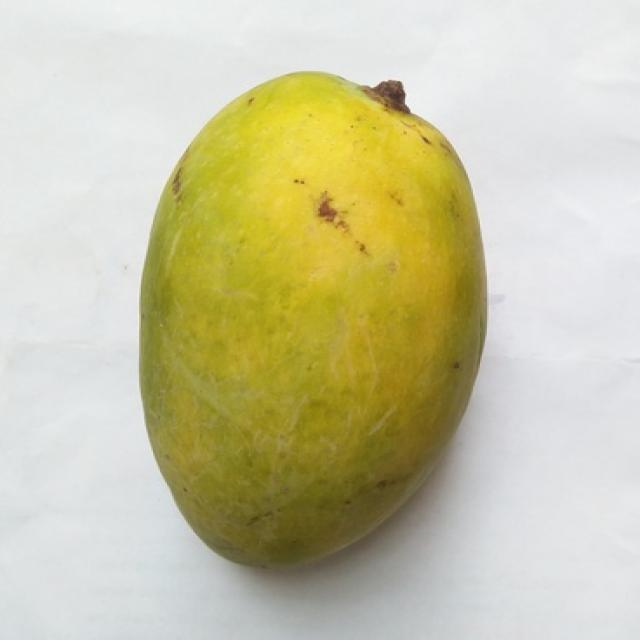Mango: (139, 73, 485, 564)
